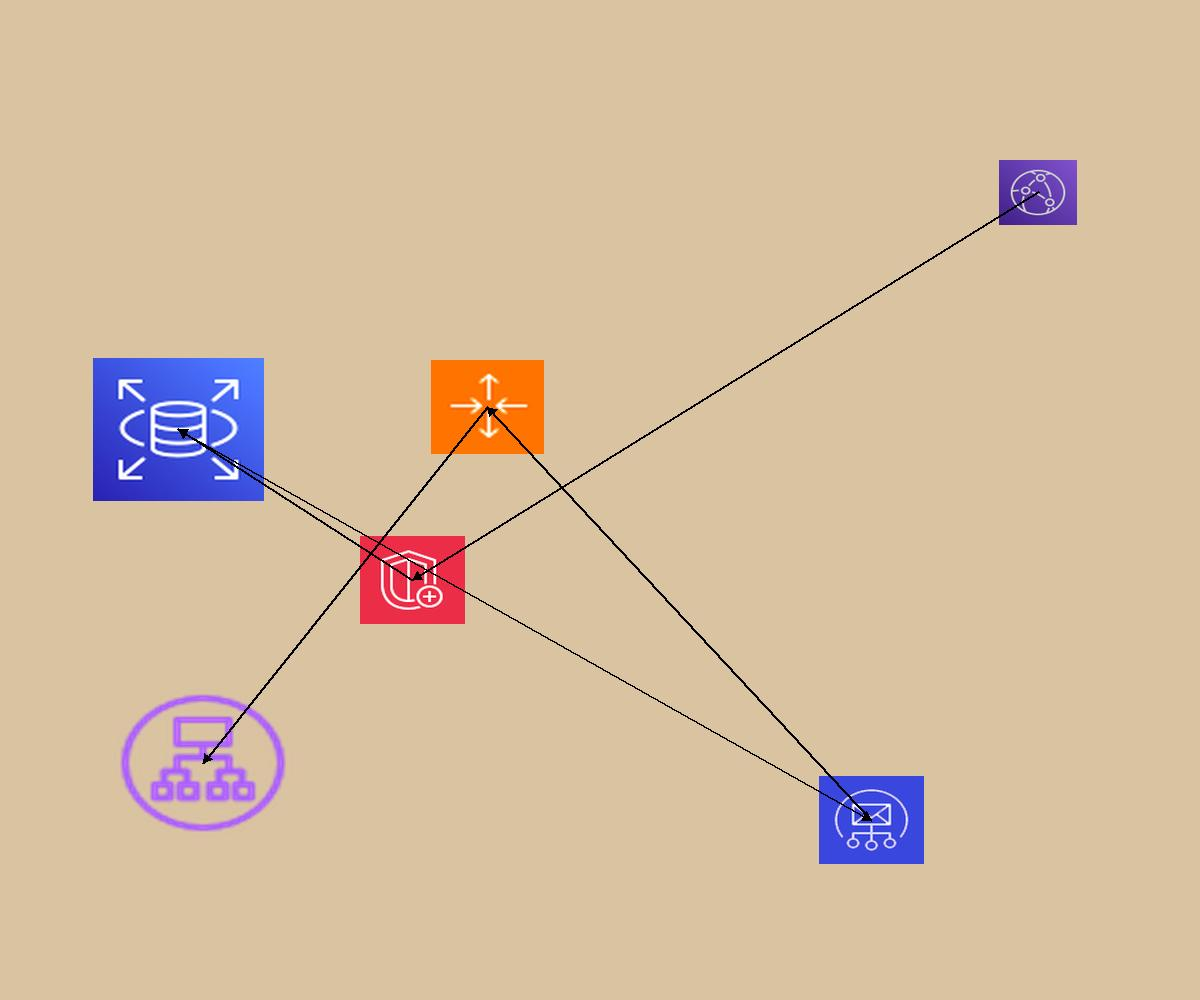AWS-CloudFront: (999, 160, 1077, 225)
AWS-RDS: (93, 358, 264, 501)
AWS-Res_Elastic-Load-Balancing_Application-Load-Balancer: (114, 689, 292, 837)
AWS-Scaling-group: (431, 360, 544, 454)
AWS-Shield: (360, 536, 465, 624)
AWS-Simple-Email-Service: (819, 776, 924, 864)
